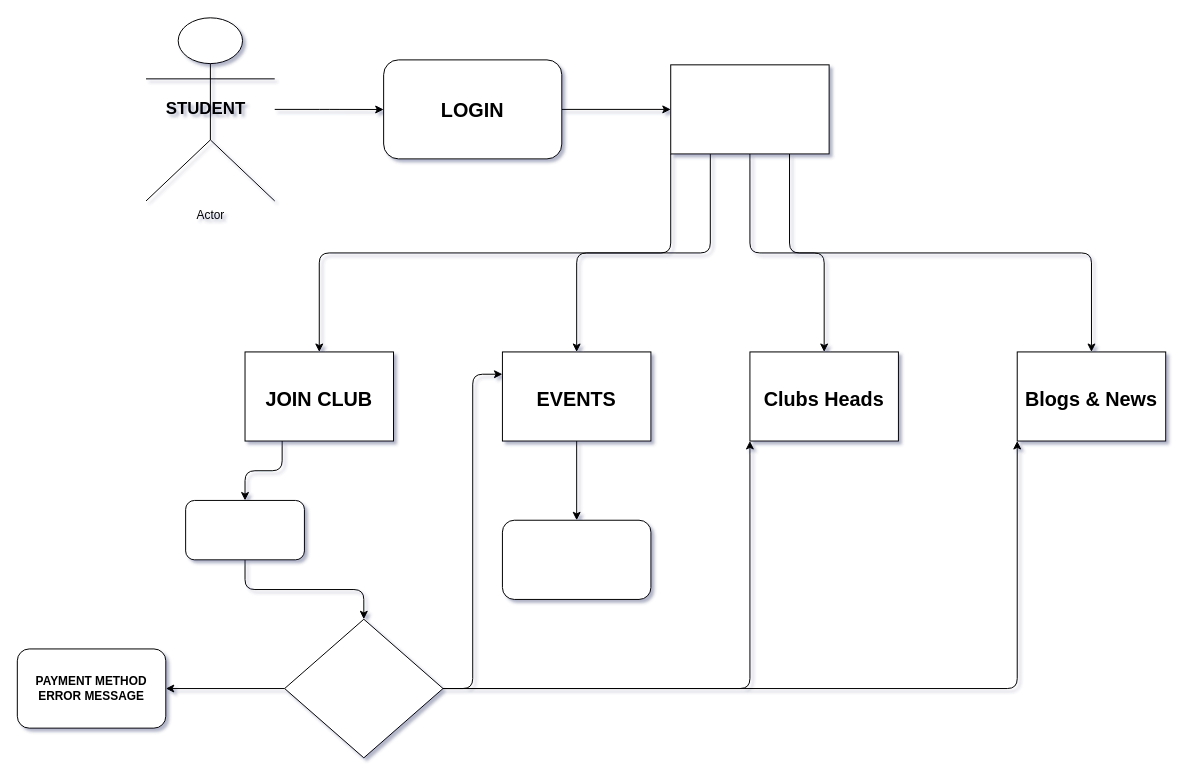
Some shapes in this 1189 by 781 pixel diagram are drawn without their labels. Here are the shapes that lost their labels. From the top down, the box of each, then its label:
(670, 64, 829, 154): HOME
(185, 499, 304, 560): REGISTER
(501, 519, 651, 599): GOOGLE CALENDAR (Syn with email)
(284, 618, 443, 758): VERIFICATION
